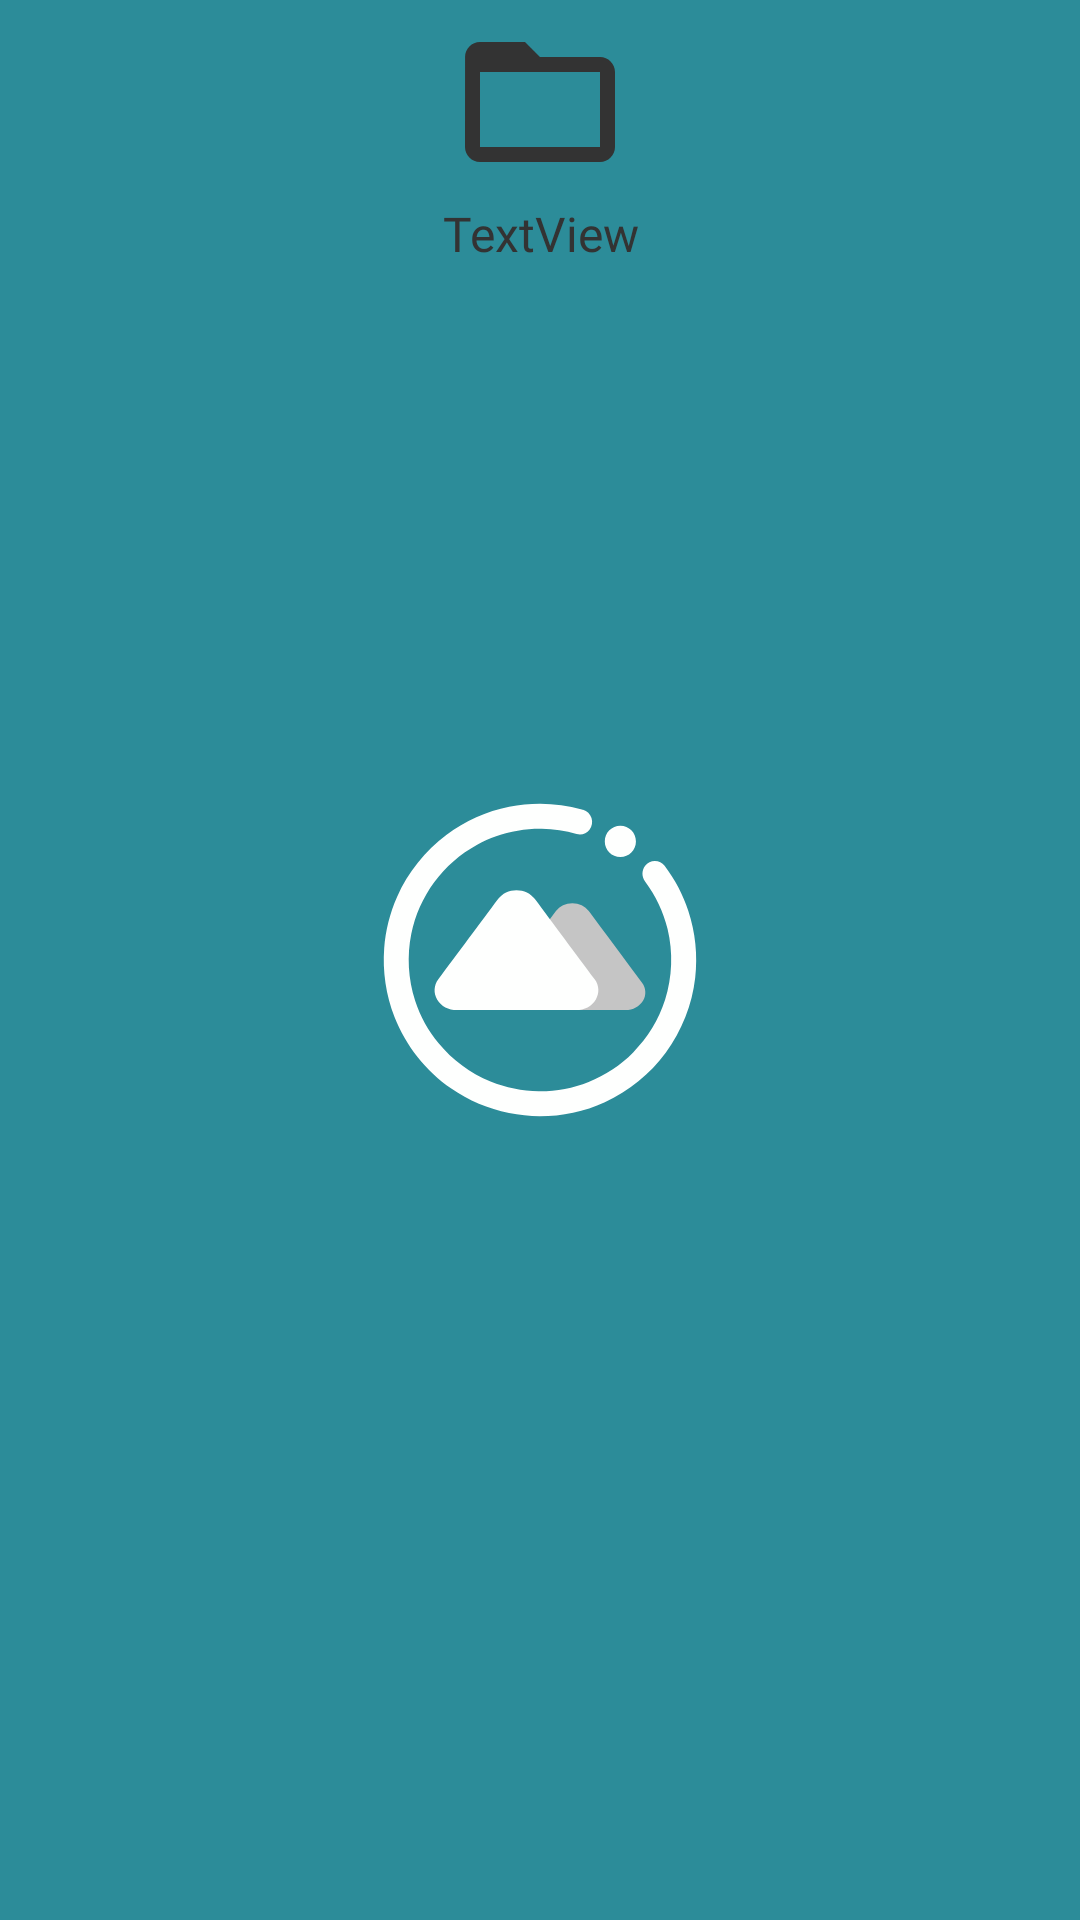

Icon bounding boxes for this 1080 x 1920 phone screenshot, format bbox=[x1, y1, x2, y2]:
folder open: bbox=[465, 42, 615, 162]
